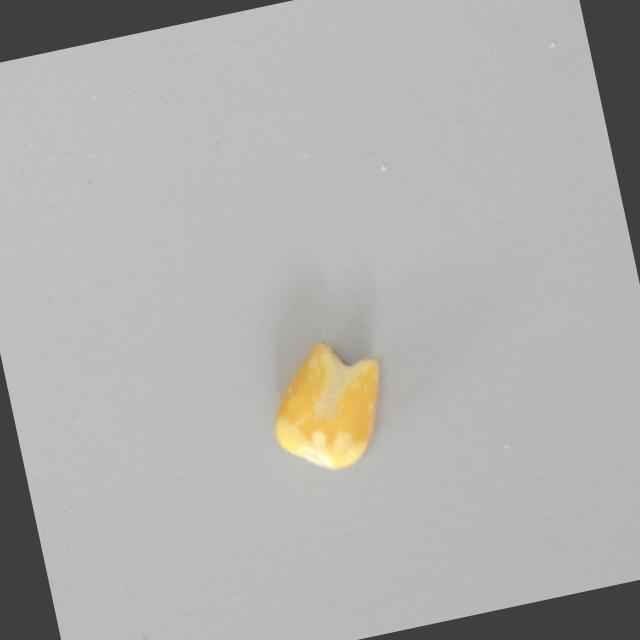pelicula: (257, 329, 397, 479)
